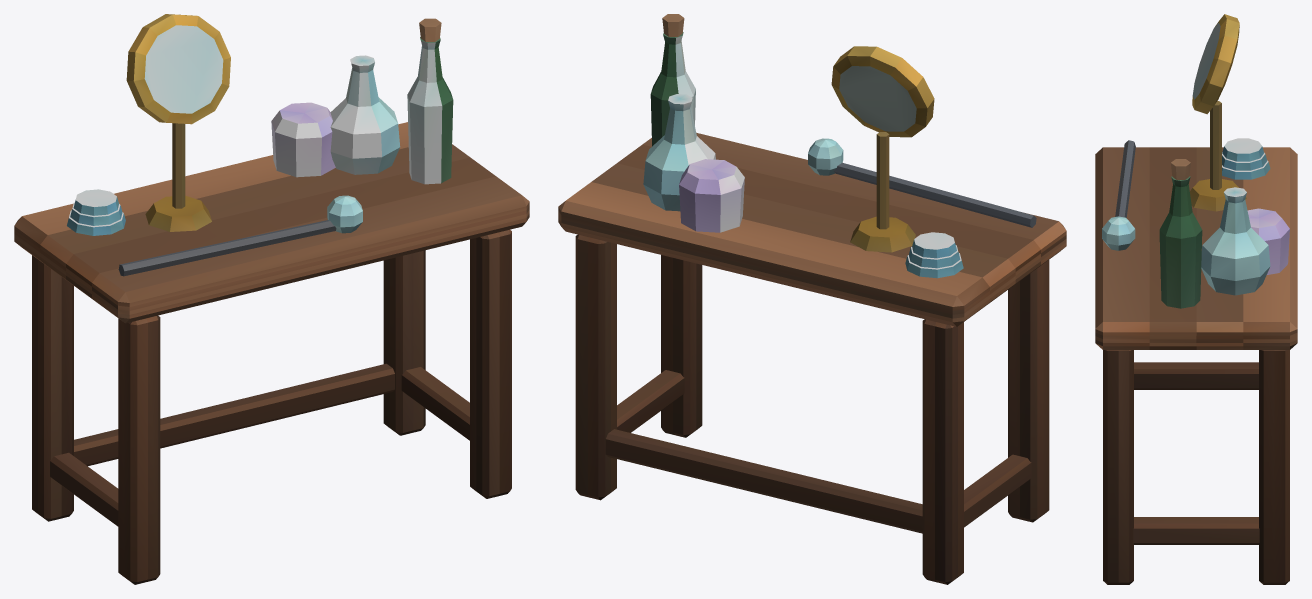
Rendered from glass-workbench.glb.
3 views of the same model, side by side, from view 1: azimuth 30°, elevation 25°; view 2: azimuth 150°, elevation 25°; view 3: azimuth 270°, elevation 25° (orthographic). The views are drawn at different scales.
Parts seen in each view (by area): view 1: glass-workbench; view 2: glass-workbench; view 3: glass-workbench.
Part boxes in pixels (x1,y1,x2,y2): glass-workbench: (14,14,529,584); glass-workbench: (558,14,1066,584); glass-workbench: (1095,14,1297,584).
Size of the model in its own units: 1.1 by 1.27 by 0.52.
